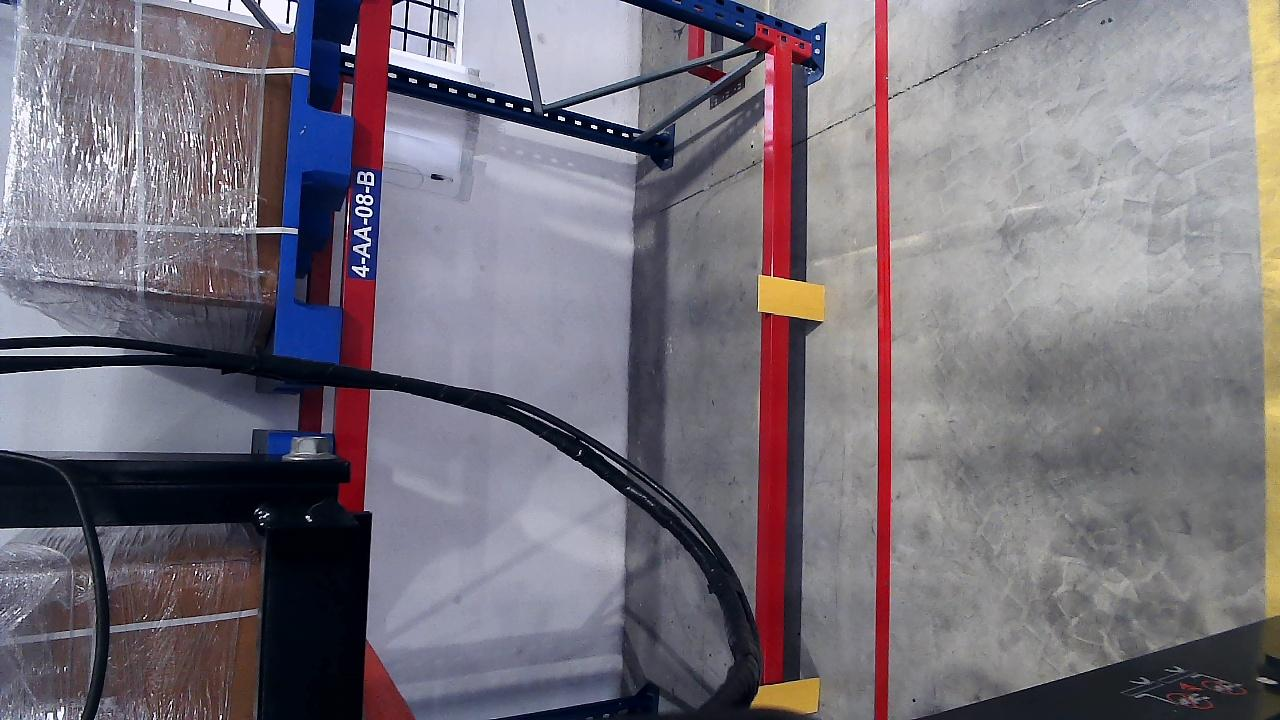h_rack: (335, 0, 396, 509), (761, 39, 799, 682)
orange_strip: (758, 275, 824, 321), (748, 677, 820, 713)
small_pallet: (271, 1, 365, 360)
yellow_line: (1252, 2, 1279, 620)
